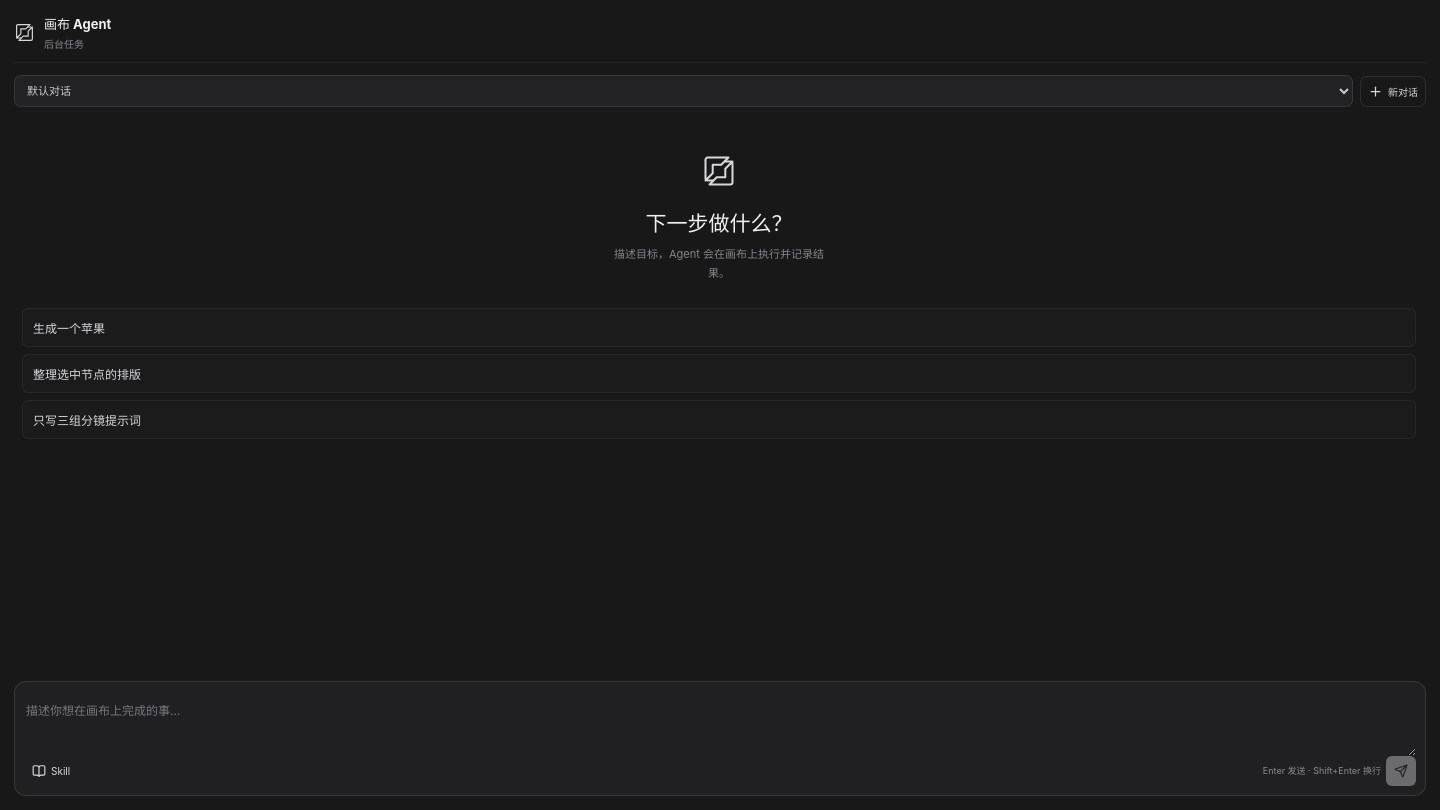
AgentSidebarPanel lifecycle boundaries › waits for local save and refuses to submit when save fails
The width and height of the screenshot is (1440, 810).
Type "生成苹果" into the text box named "Agent 指令输入框" at (720, 724), box x1=24 y1=691 x2=1416 y2=756
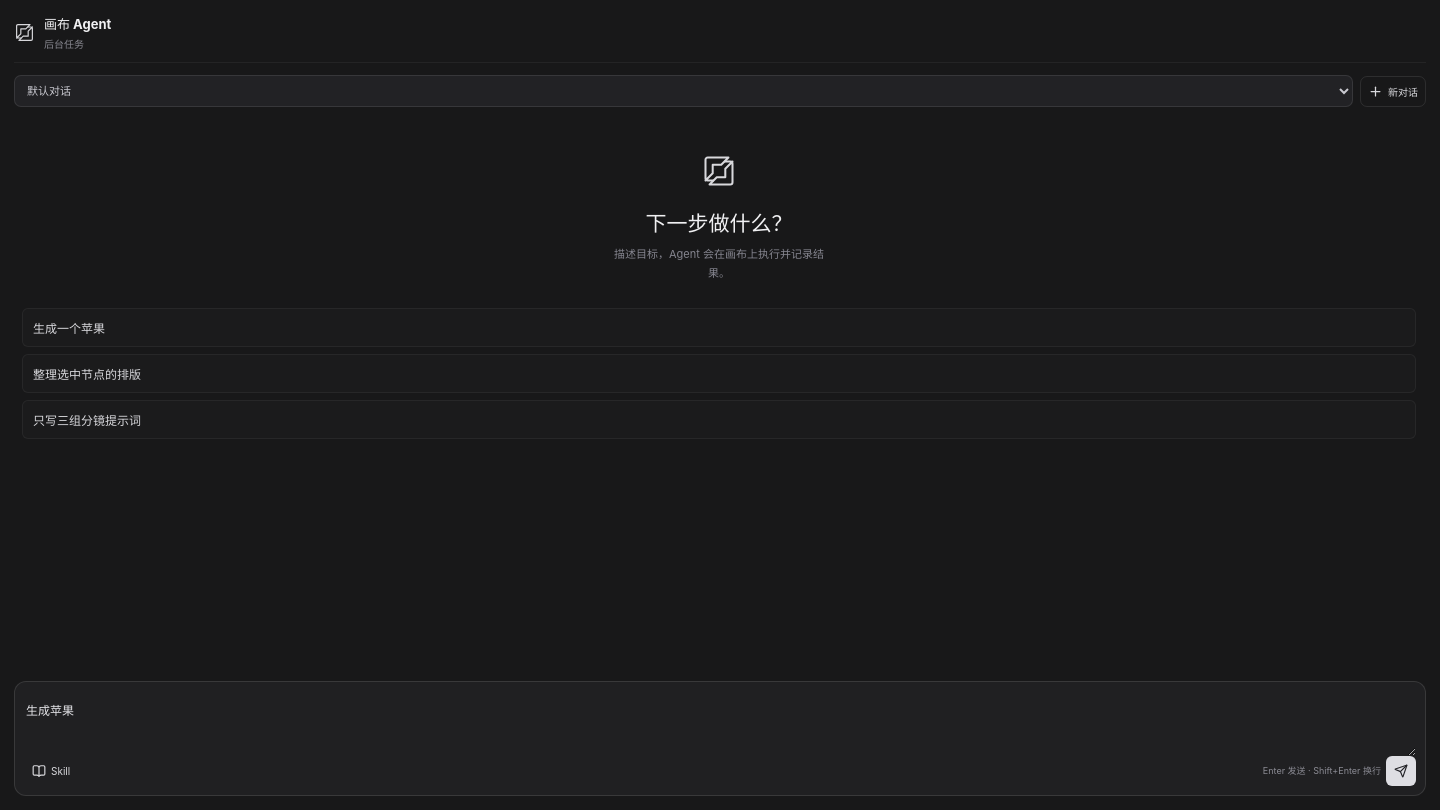
Click the button named "发送" at (1401, 771), box x1=1386 y1=756 x2=1416 y2=786
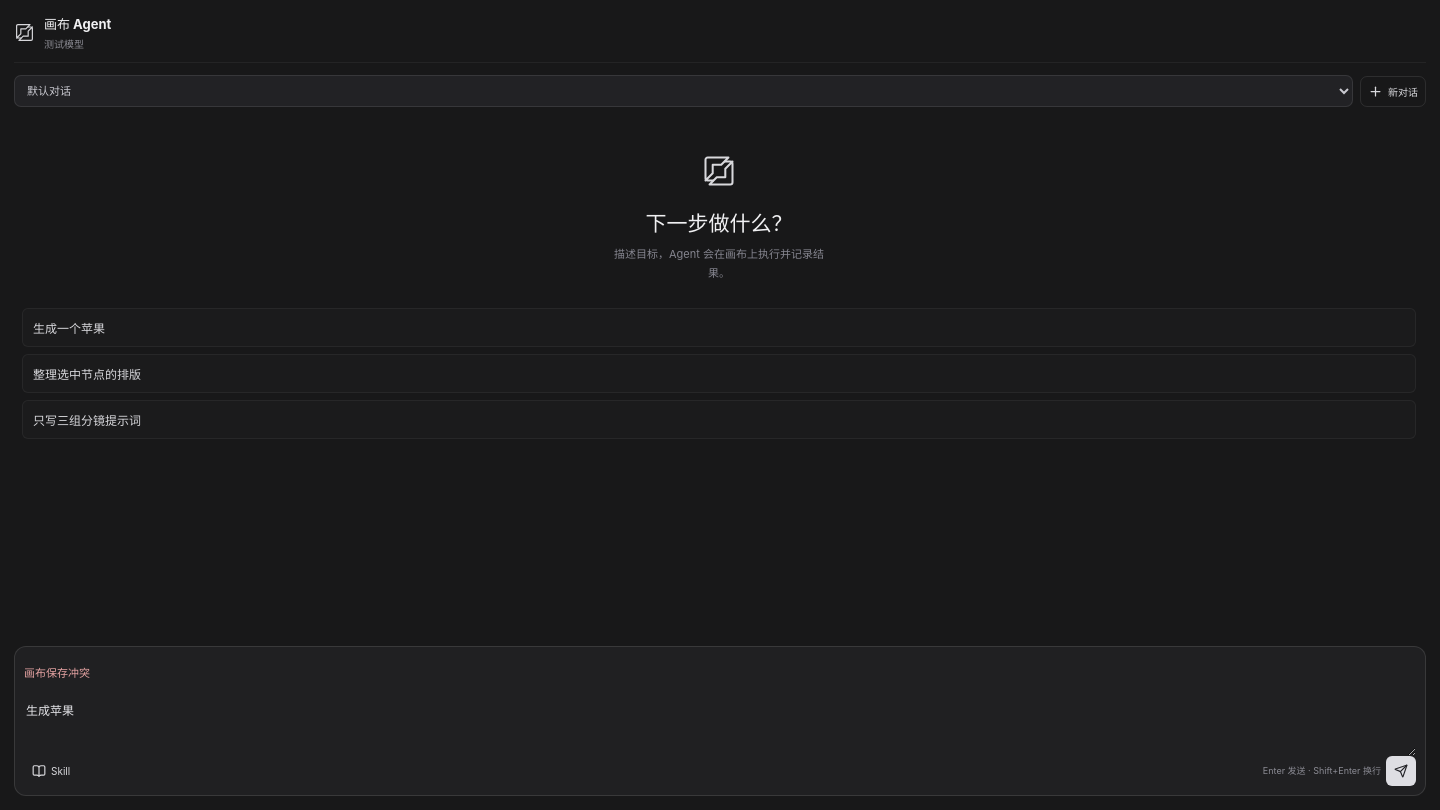
Result: the text "画布保存冲突" is shown at x1=24 y1=666 x2=90 y2=680
